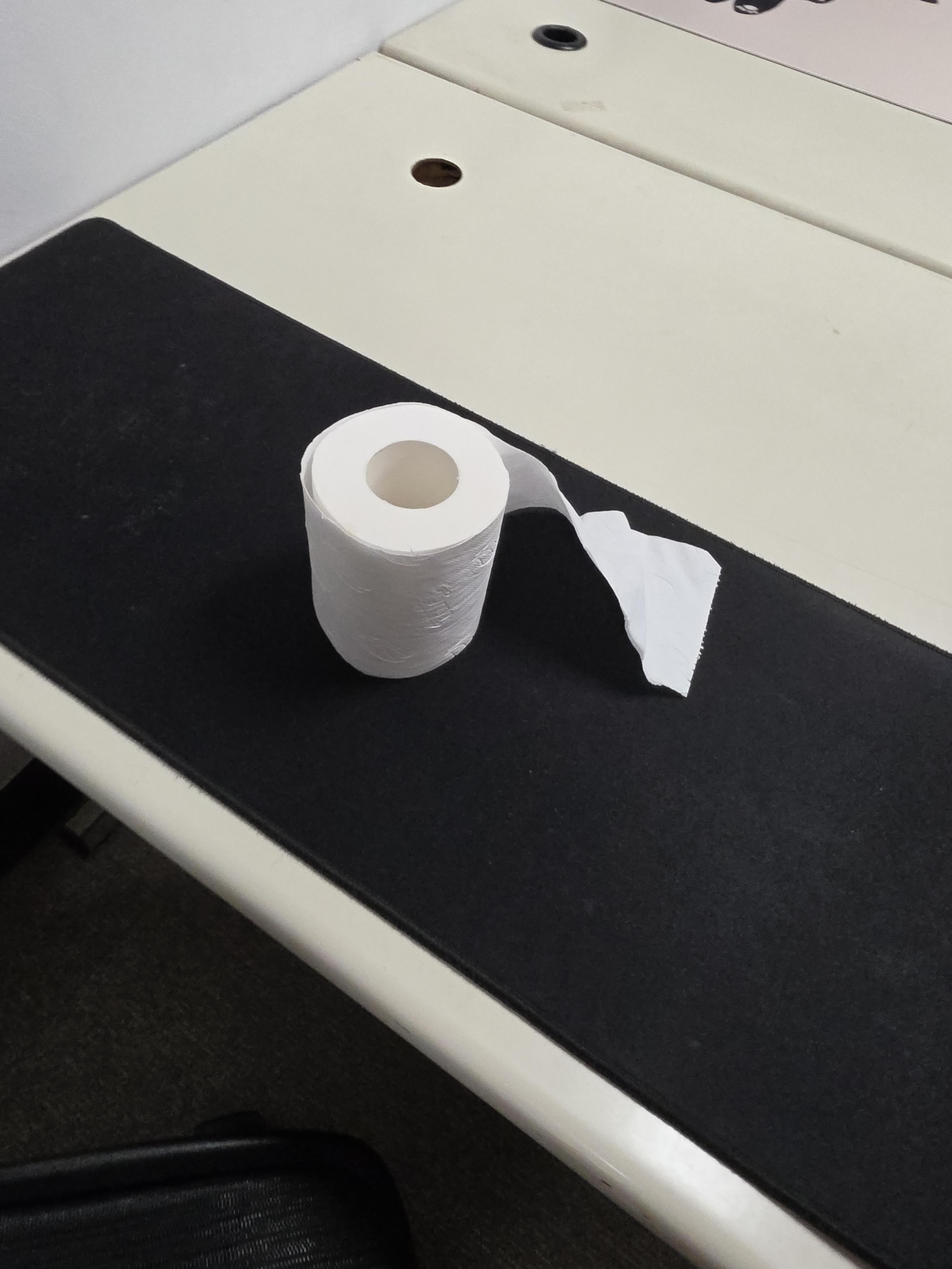tissue: (300, 402, 722, 699)
